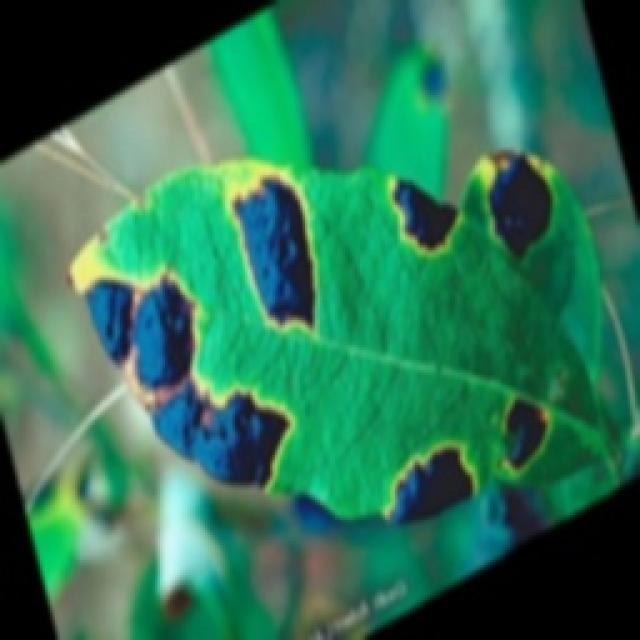Tar_Spot: (47, 176, 640, 487)
